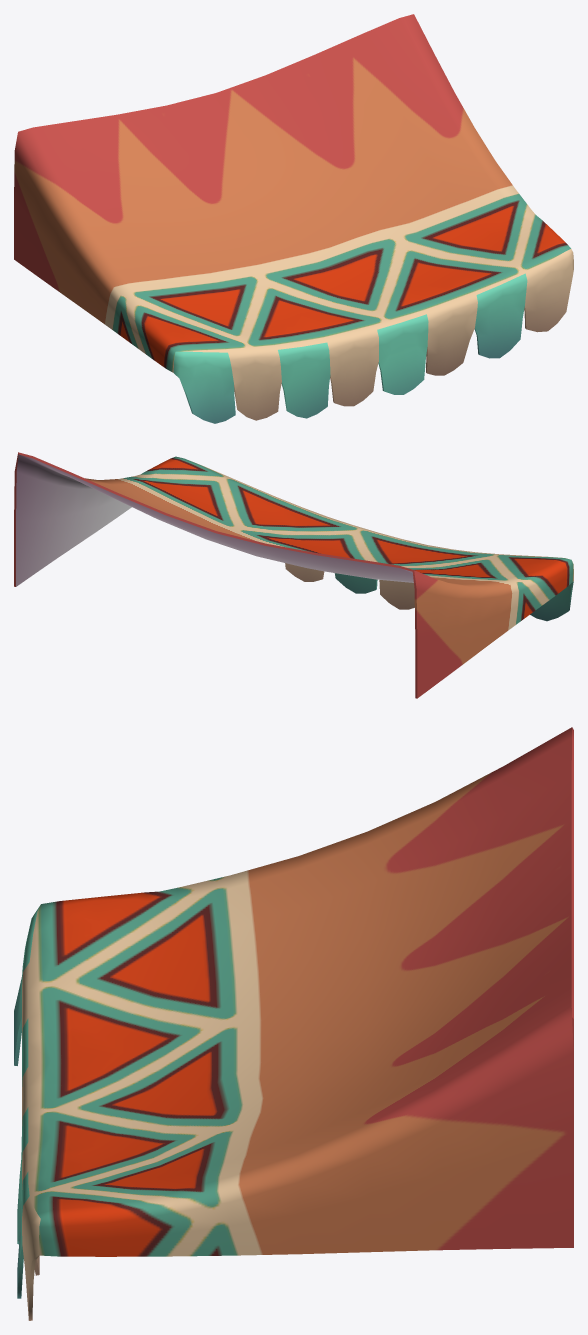
Rendered from M_Store_Rond_03.fbx.
3 renders of one model, top to bottom at view 1: azimuth 30°, elevation 25°; view 2: azimuth 150°, elevation 25°; view 3: azimuth 270°, elevation 25°, orthographic. The views are drawn at different scales.
Visible parts, largest first — view 1: Store_Rond_03; view 2: Store_Rond_03; view 3: Store_Rond_03.
Boxes of the visible parts, x1=… form: Store_Rond_03: x1=14, y1=14, x2=573, y2=423; Store_Rond_03: x1=14, y1=452, x2=573, y2=698; Store_Rond_03: x1=14, y1=727, x2=573, y2=1320.
Bounding box in the file's own units: 6.06 × 4.32 × 3.17.
1 material, 1 textured.
